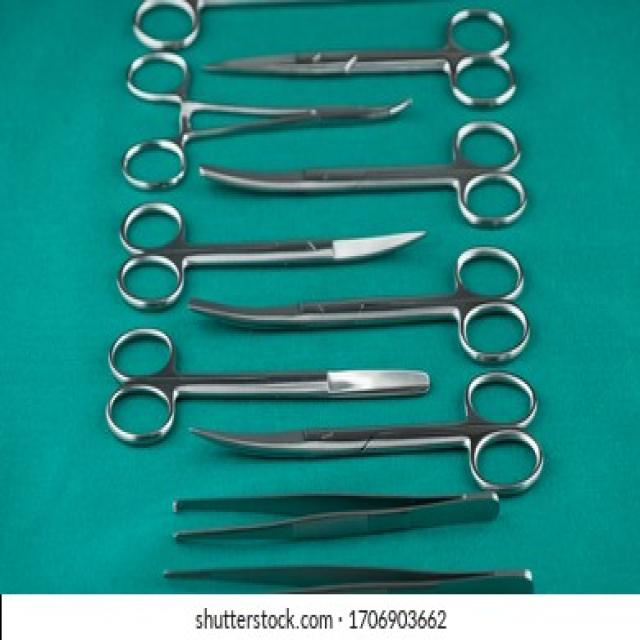B3: (90, 306, 450, 453), (185, 361, 558, 496), (183, 247, 554, 368), (105, 53, 415, 192), (102, 197, 435, 316), (189, 119, 535, 233), (203, 5, 527, 110)
